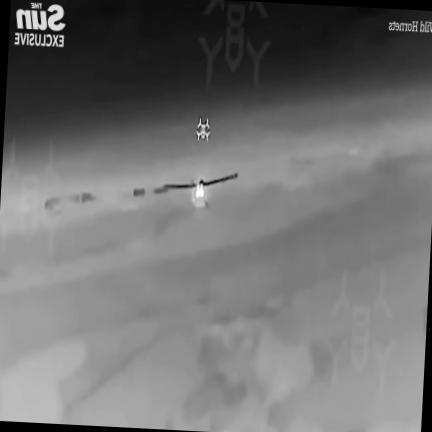Shahed: (154, 173, 236, 208)
